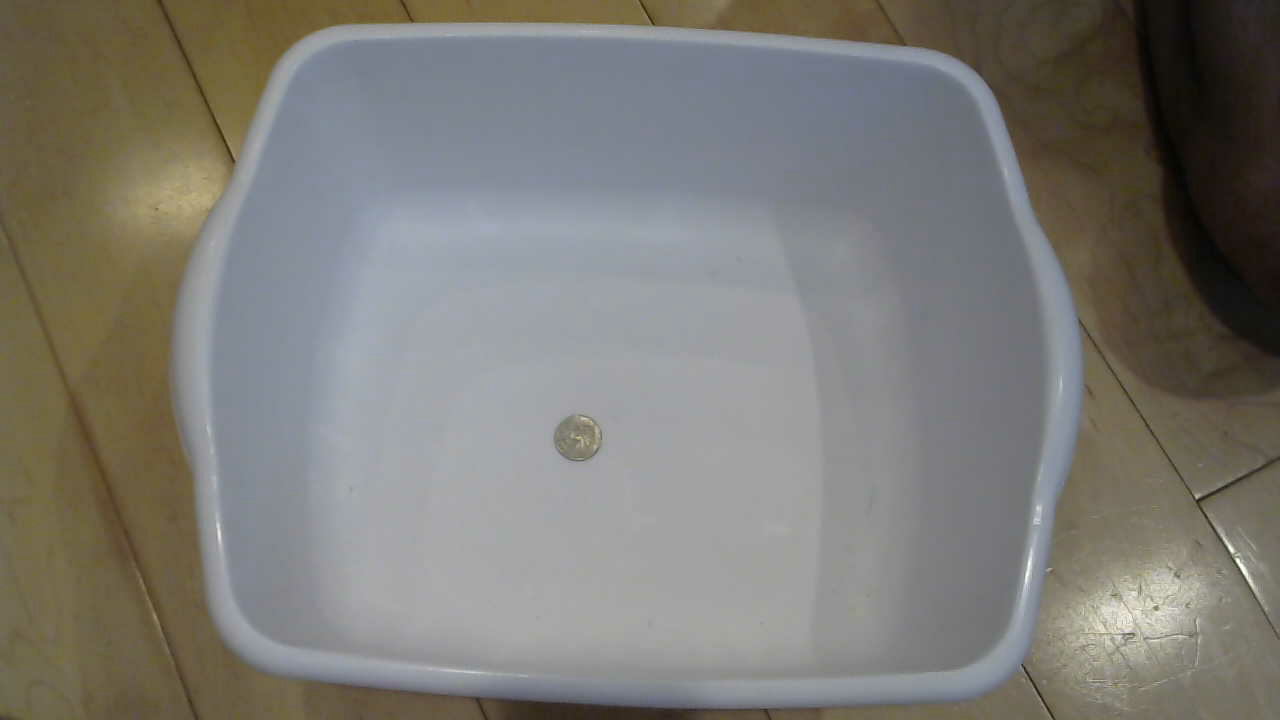coin: (549, 413, 614, 472)
